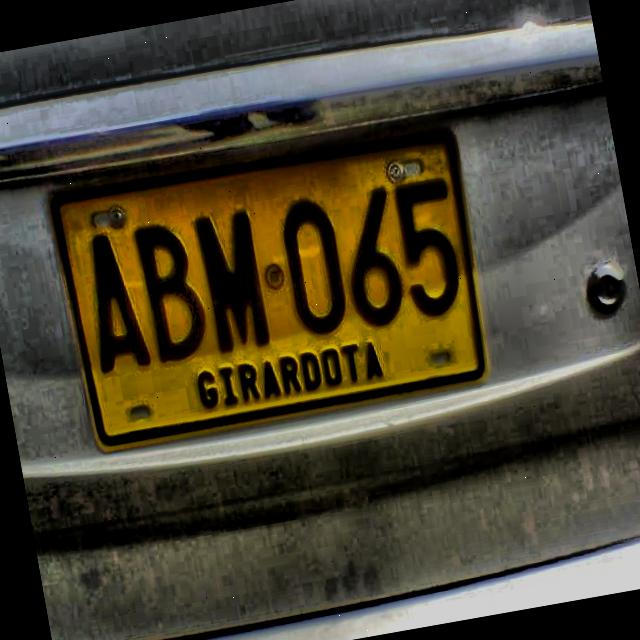plate: (47, 128, 488, 454)
